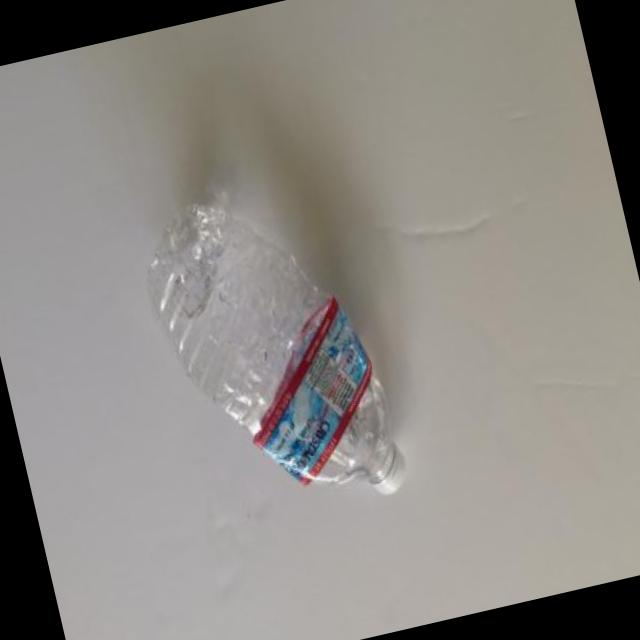Recycle: (132, 163, 428, 540)
